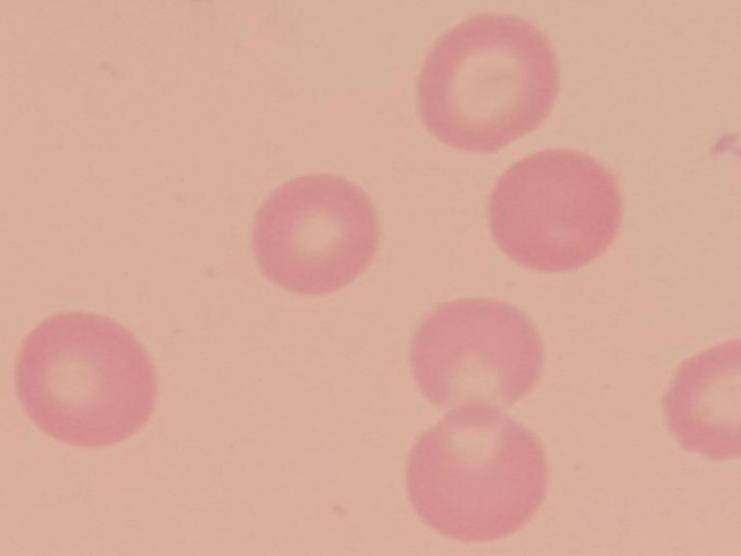Uninfected: (406, 406, 548, 546), (423, 13, 558, 152), (19, 309, 156, 443), (410, 299, 543, 429), (490, 142, 621, 271), (250, 173, 380, 298), (660, 336, 741, 463)
